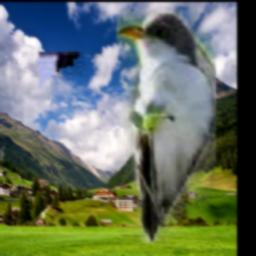Crow: (39, 53, 107, 247)
Cuckoo: (117, 9, 217, 243)
